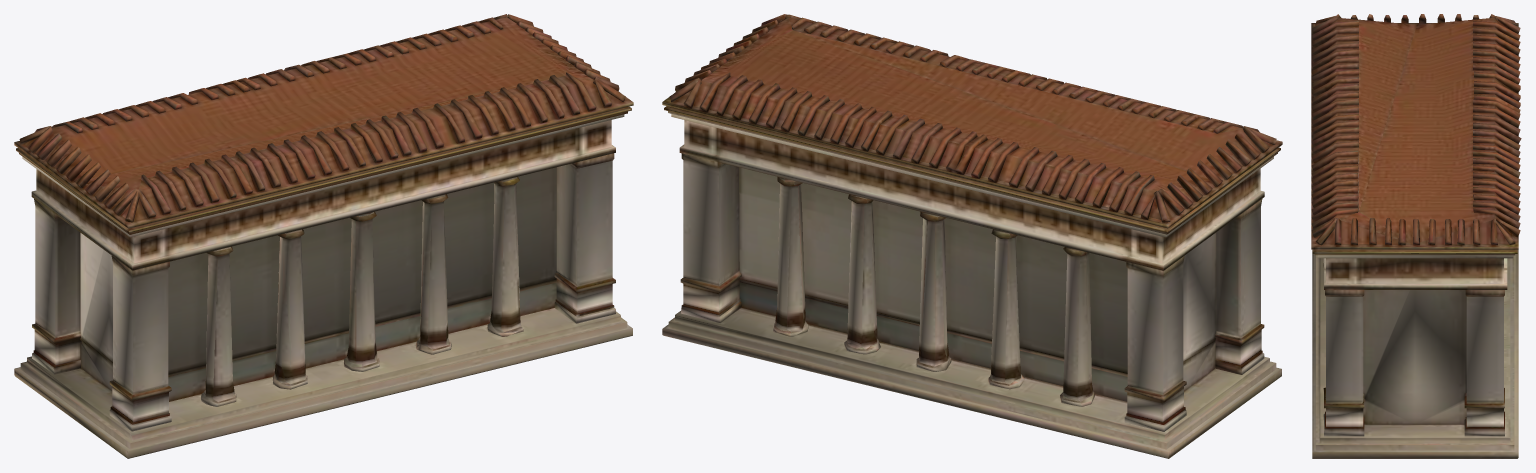
Rendered from greek_stoa_colonnade.glb.
3 views of the same model, side by side, from view 1: azimuth 30°, elevation 25°; view 2: azimuth 150°, elevation 25°; view 3: azimuth 270°, elevation 25° (orthographic). The views are drawn at different scales.
Parts seen in each view (by area): view 1: greek_stoa_colonnade; view 2: greek_stoa_colonnade; view 3: greek_stoa_colonnade.
Boxes of the visible parts, bbox=[...] form: greek_stoa_colonnade: bbox=[14, 14, 633, 458]; greek_stoa_colonnade: bbox=[662, 14, 1282, 458]; greek_stoa_colonnade: bbox=[1311, 14, 1521, 458].
Bounding box in the file's own units: 9.31 × 4.5 × 3.7.
1 material, 1 textured.
